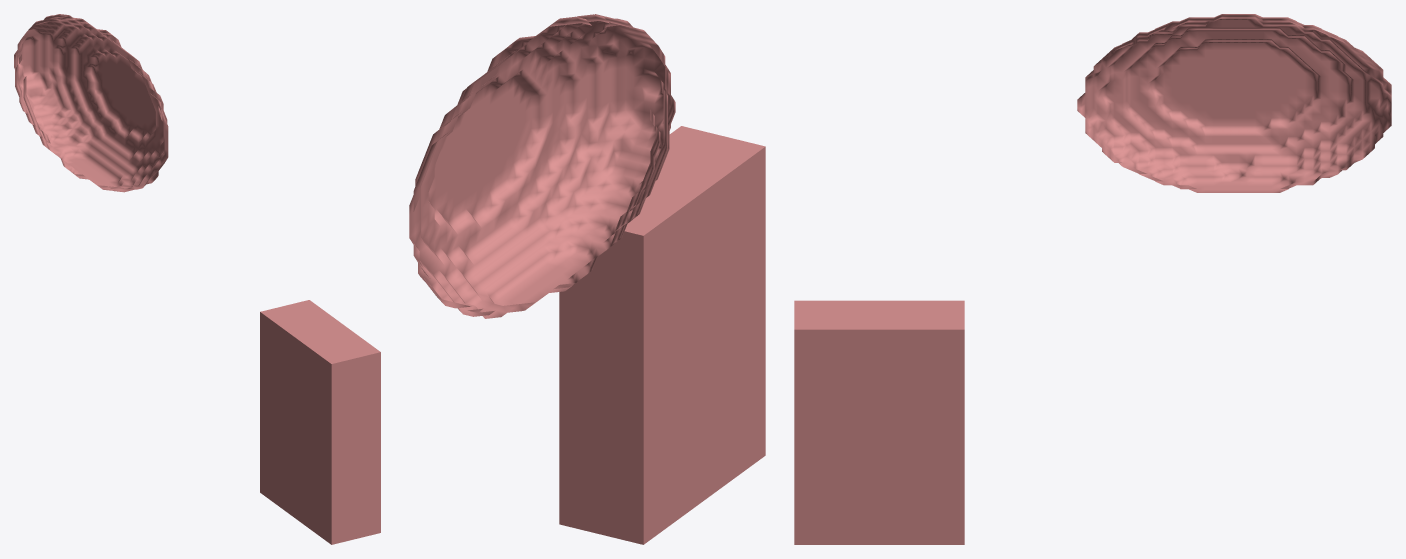
The model's file is 239501_occ.glb.
3 views of the same model, side by side, from view 1: azimuth 30°, elevation 25°; view 2: azimuth 150°, elevation 25°; view 3: azimuth 270°, elevation 25° (orthographic). The views are drawn at different scales.
Parts seen in each view (by area): view 1: world; view 2: world; view 3: world.
Boxes of the visible parts, box(x1,y1,x2,y2) form: world: box(14, 14, 380, 544); world: box(409, 14, 765, 544); world: box(794, 14, 1391, 544).
Bounding box in the file's own units: 2.32 × 6.16 × 7.22.
